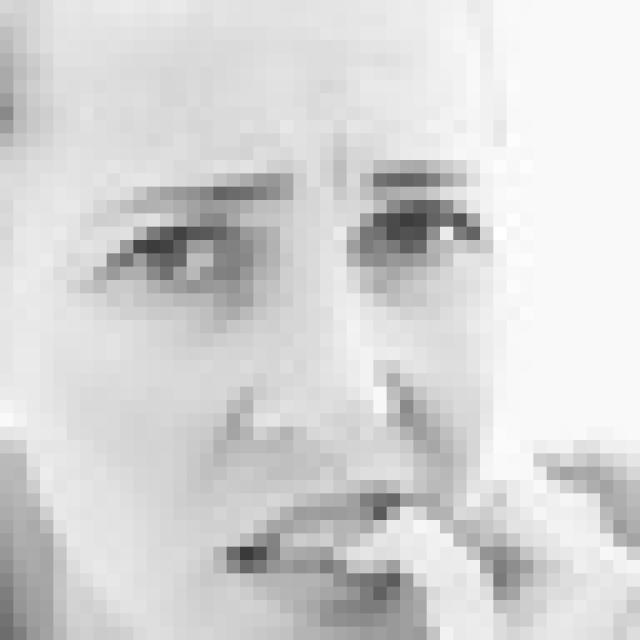fear: (82, 146, 489, 625)
